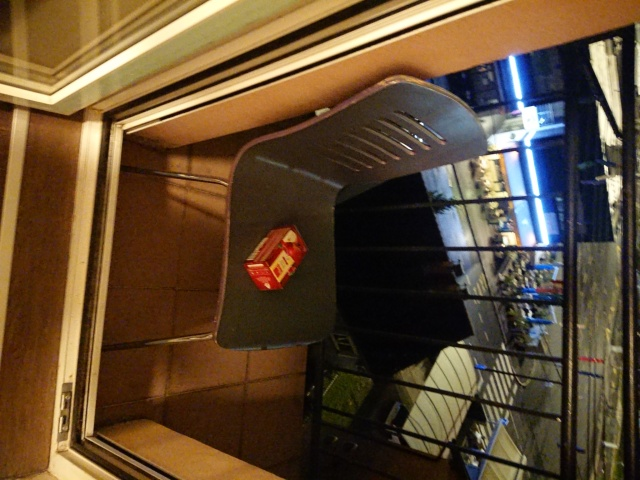Franck Apple Cinnamon Tea 60g: (239, 221, 312, 294)
